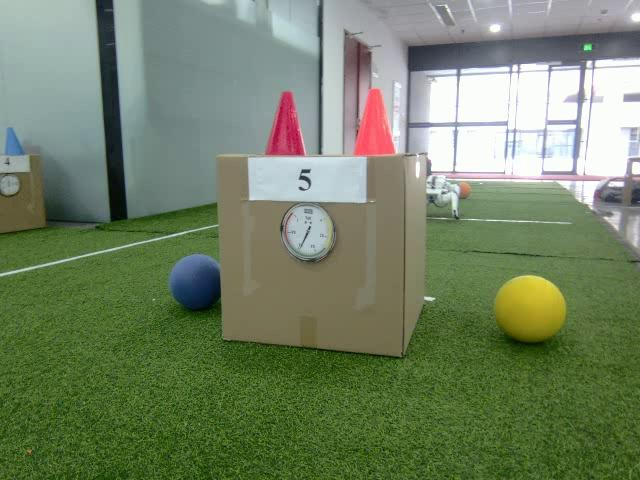4: (3, 158, 13, 168)
5: (296, 167, 313, 191)
Dashboard: (280, 202, 336, 264)
blue_ball: (169, 254, 222, 311)
blue_barrel: (2, 128, 26, 156)
orange_barrel: (351, 85, 396, 156)
red_barrel: (266, 91, 308, 158)
ssi: (301, 208, 314, 216)
yellow_ball: (494, 273, 568, 346)
